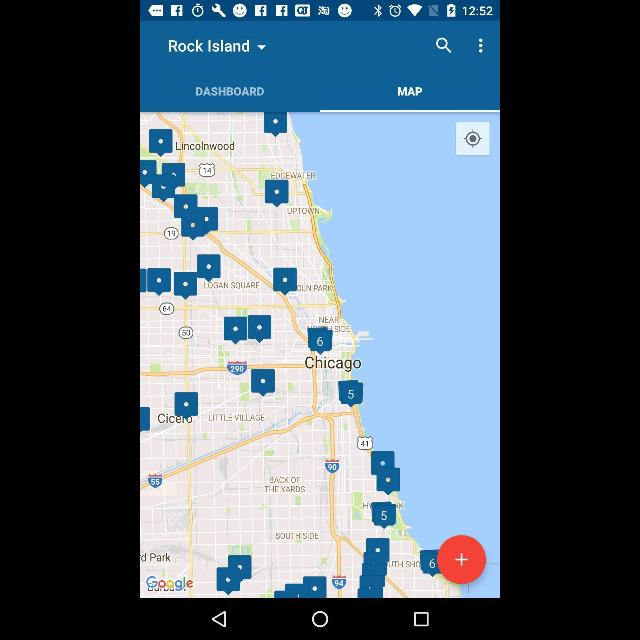button: (437, 537, 487, 585)
icon: (463, 128, 483, 152), (248, 36, 270, 56), (435, 37, 453, 55), (310, 610, 330, 626), (414, 610, 430, 628), (210, 610, 226, 628), (476, 34, 486, 56)
map: (141, 113, 499, 597)
multitab: (140, 66, 500, 114)
panel: (140, 20, 500, 66), (141, 600, 499, 640)
text: (166, 36, 250, 56)
uppertaskbar: (142, 1, 498, 21)
